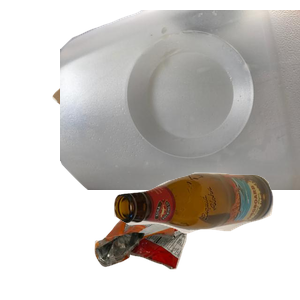cardboard: (50, 38, 233, 184)
glass: (111, 170, 300, 300)
plastic: (60, 10, 300, 190)
trash: (92, 174, 272, 300)
